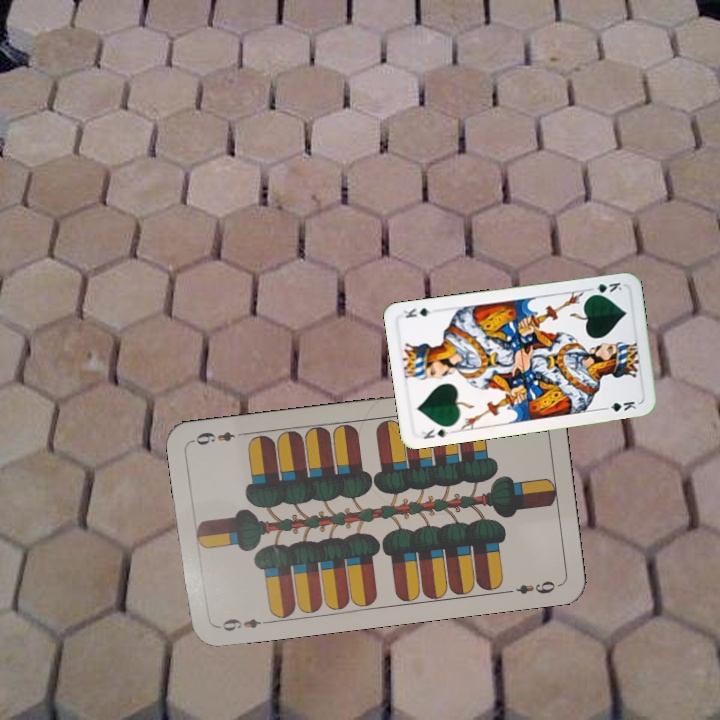E9: (213, 614, 272, 634)
GK: (585, 278, 624, 298), (416, 425, 451, 441)
